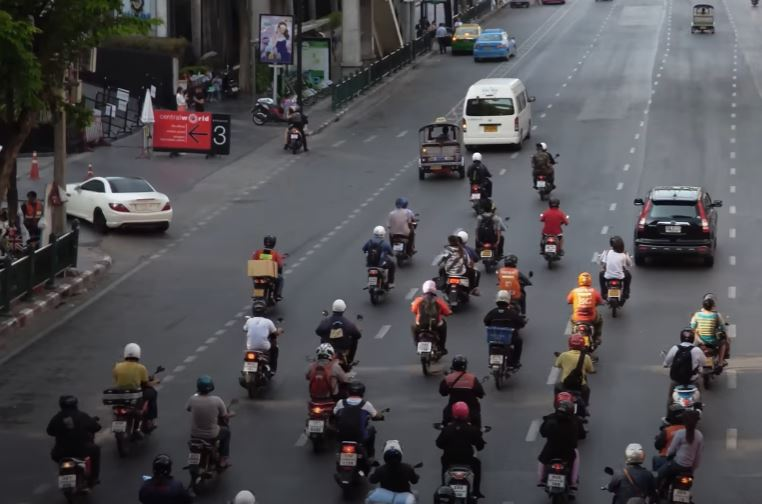Bus: (462, 75, 535, 151)
Car: (630, 181, 720, 266), (472, 28, 519, 61), (449, 21, 482, 53)
Motorcycle: (45, 393, 106, 504), (102, 342, 164, 451), (330, 380, 388, 492), (537, 392, 592, 504), (183, 373, 236, 486), (305, 343, 354, 452), (434, 400, 485, 504), (654, 406, 706, 504), (661, 327, 712, 412), (434, 226, 482, 313), (549, 332, 596, 420), (484, 286, 524, 388), (410, 279, 452, 374), (241, 300, 283, 395), (692, 292, 732, 388), (600, 440, 660, 504), (440, 354, 485, 439), (315, 296, 362, 374), (369, 439, 423, 504), (245, 232, 290, 309), (564, 271, 604, 357), (596, 236, 635, 317), (361, 225, 400, 304), (384, 195, 422, 264), (494, 254, 531, 324), (538, 200, 571, 270), (468, 152, 496, 212), (531, 142, 559, 201), (280, 107, 310, 157)
TukTuk: (415, 116, 466, 181), (688, 2, 717, 36)
